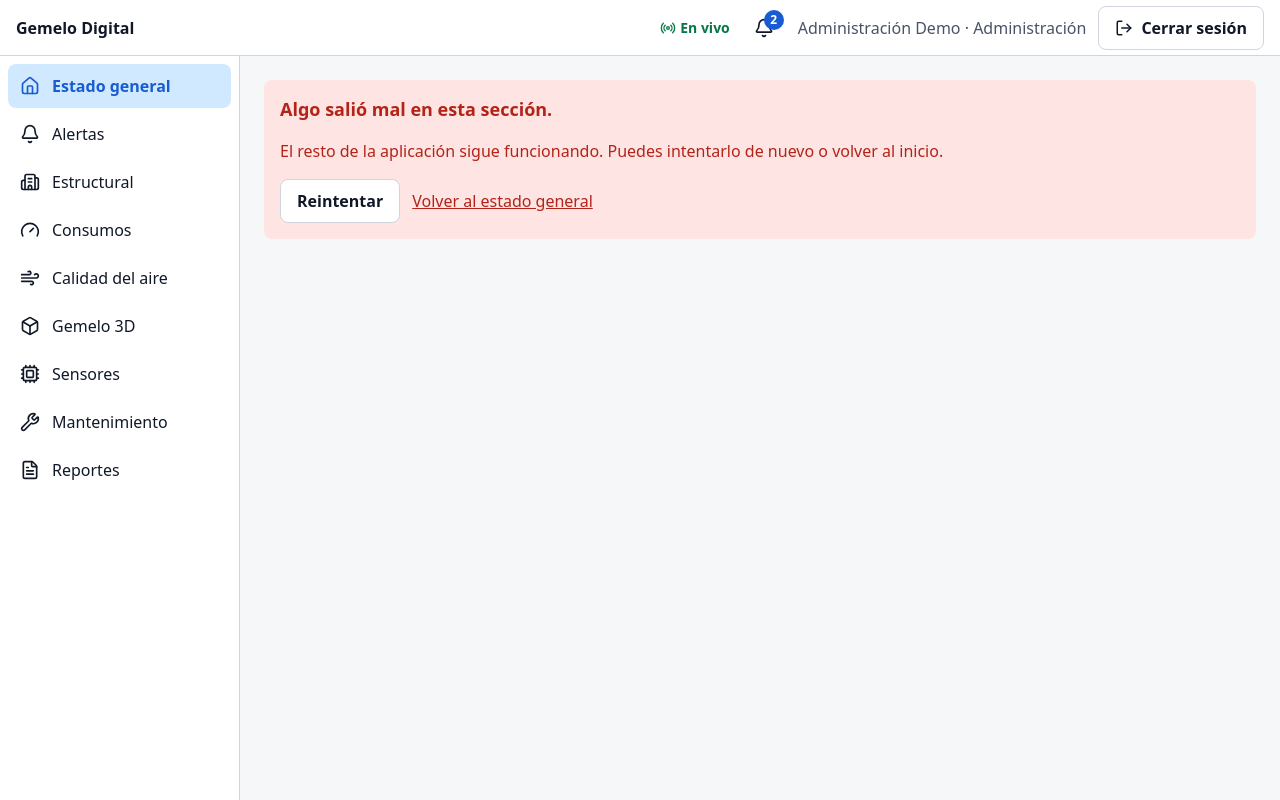
Test: RouteErrorBoundary › navegar a otra ruta limpia el error
Expected: the heading "Algo salió mal en esta sección." is shown, [280, 97, 552, 121]
Click the link "Alertas".
click(62, 134)  # box [20, 123, 104, 145]
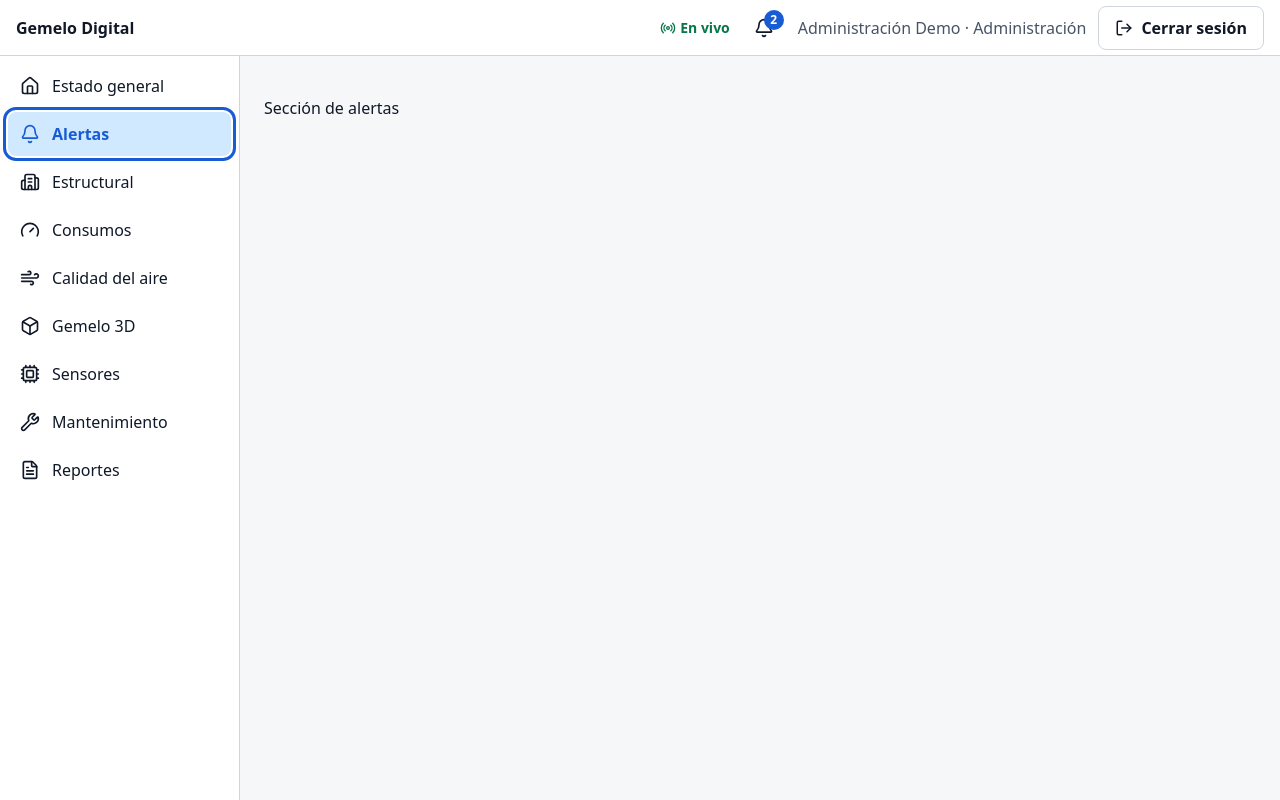
Expected: the text "Sección de alertas" is shown, [264, 97, 399, 119]
Expected: the heading "Algo salió mal en esta sección." is gone
